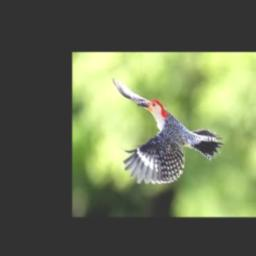Woodpecker: (112, 76, 223, 184)
